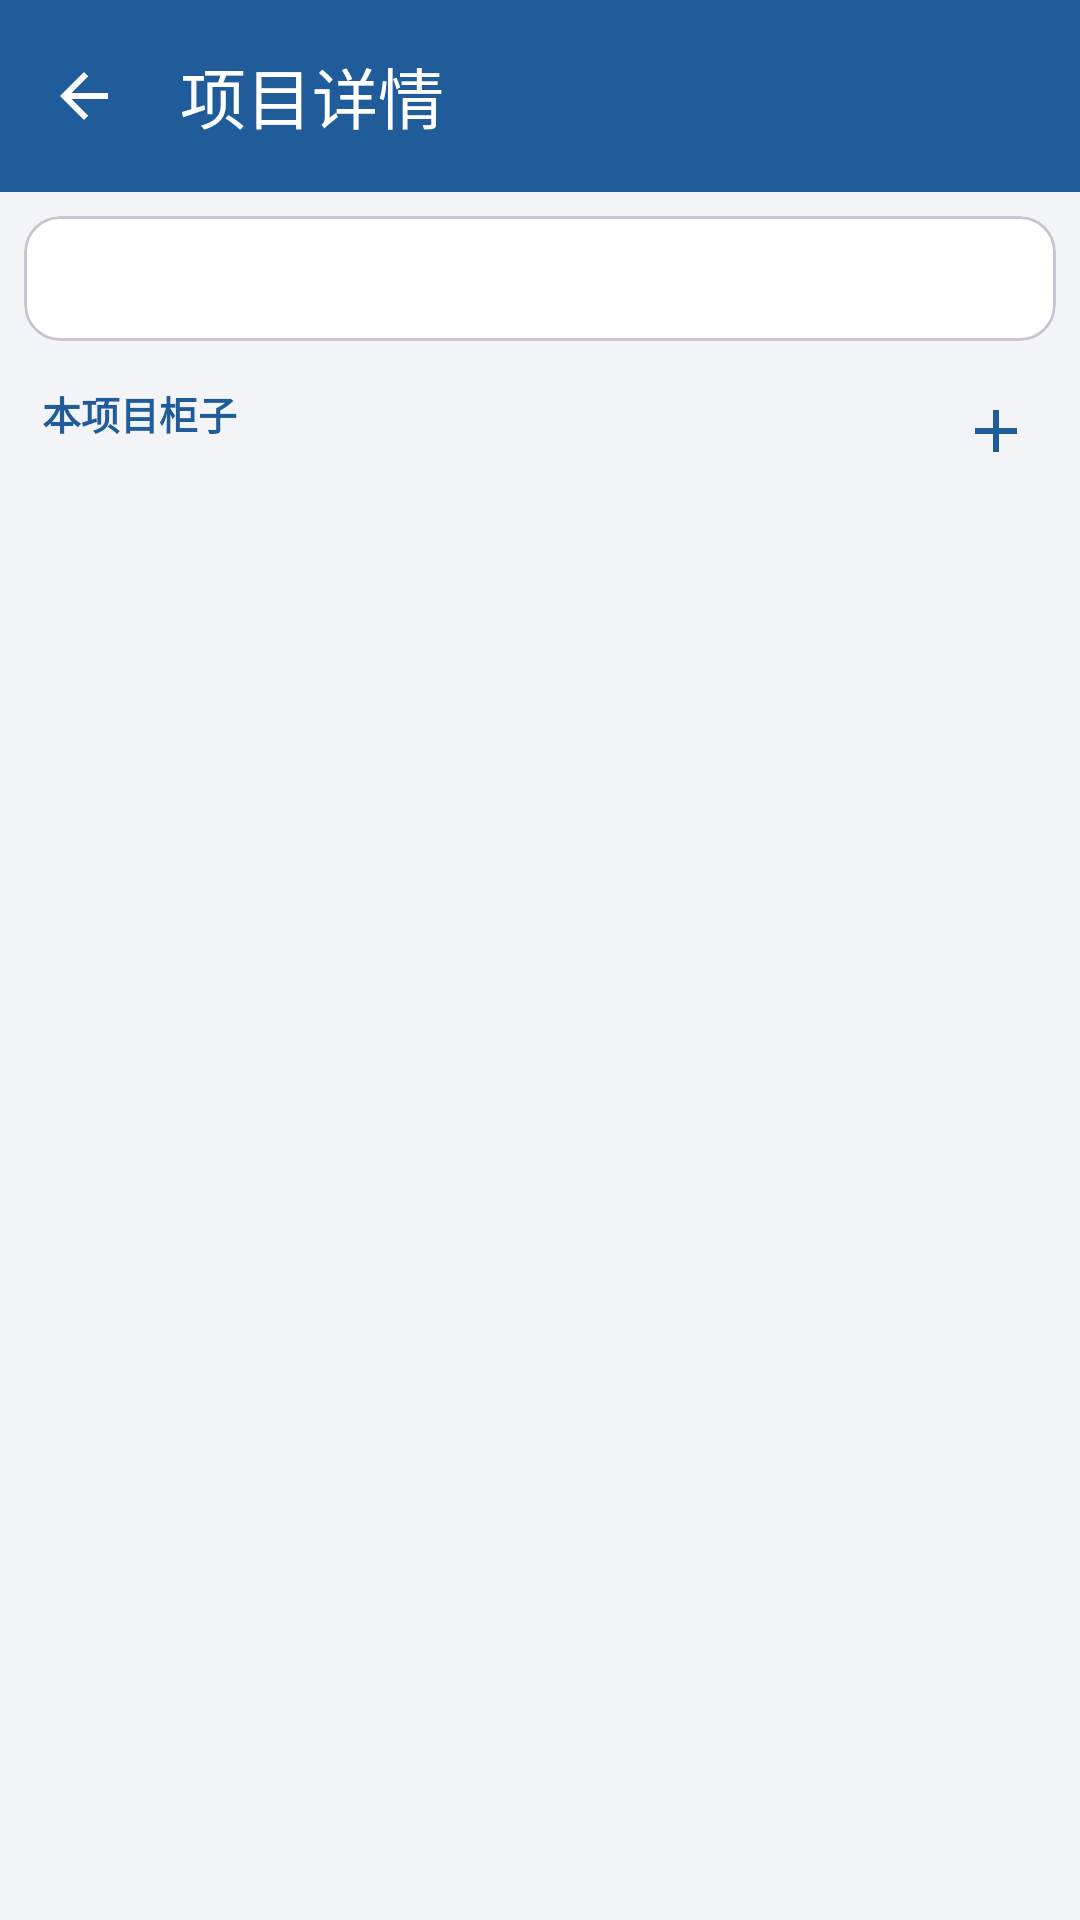

Icon bounding boxes for this 1080×1920 phone screenshot, format {"left": x1, "top": y1, "right": x2, "bottom": y2}:
添加柜子: {"left": 975, "top": 410, "right": 1017, "bottom": 452}
